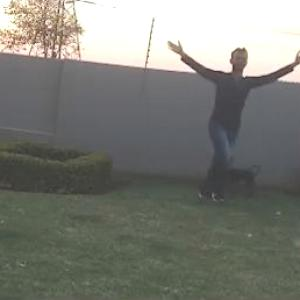takeoff: (164, 48, 293, 192)
